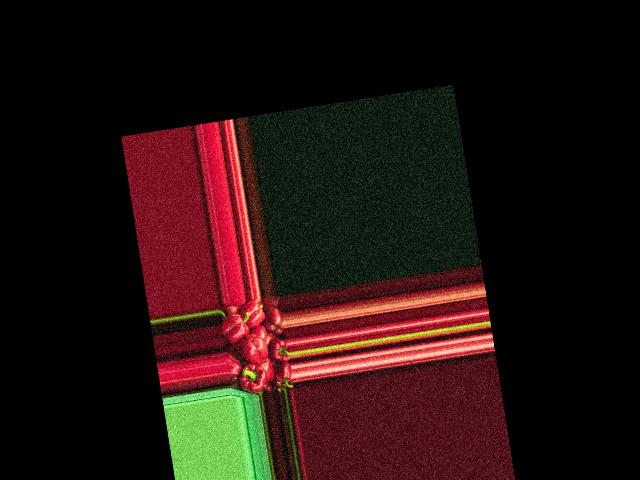bell_pepper: (272, 362, 294, 390)
